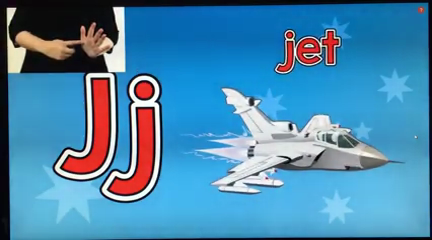J: (32, 16, 117, 63)
